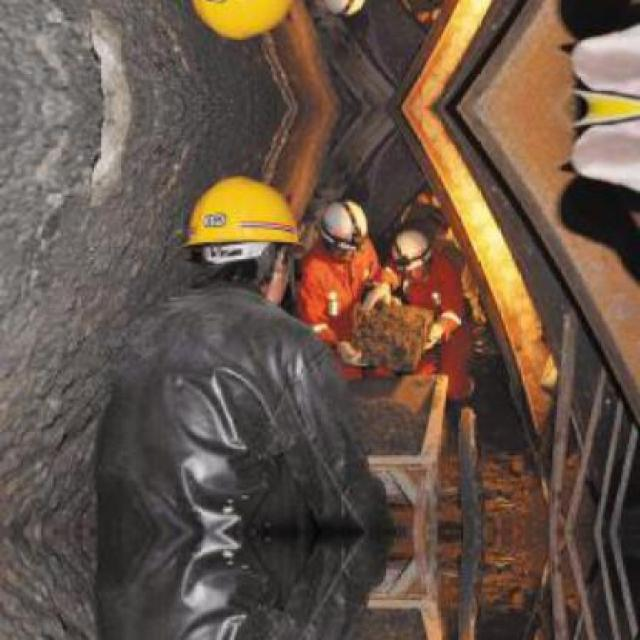helmet: (178, 171, 302, 302), (179, 0, 303, 45), (319, 190, 370, 256), (390, 222, 438, 279), (318, 0, 371, 26)
